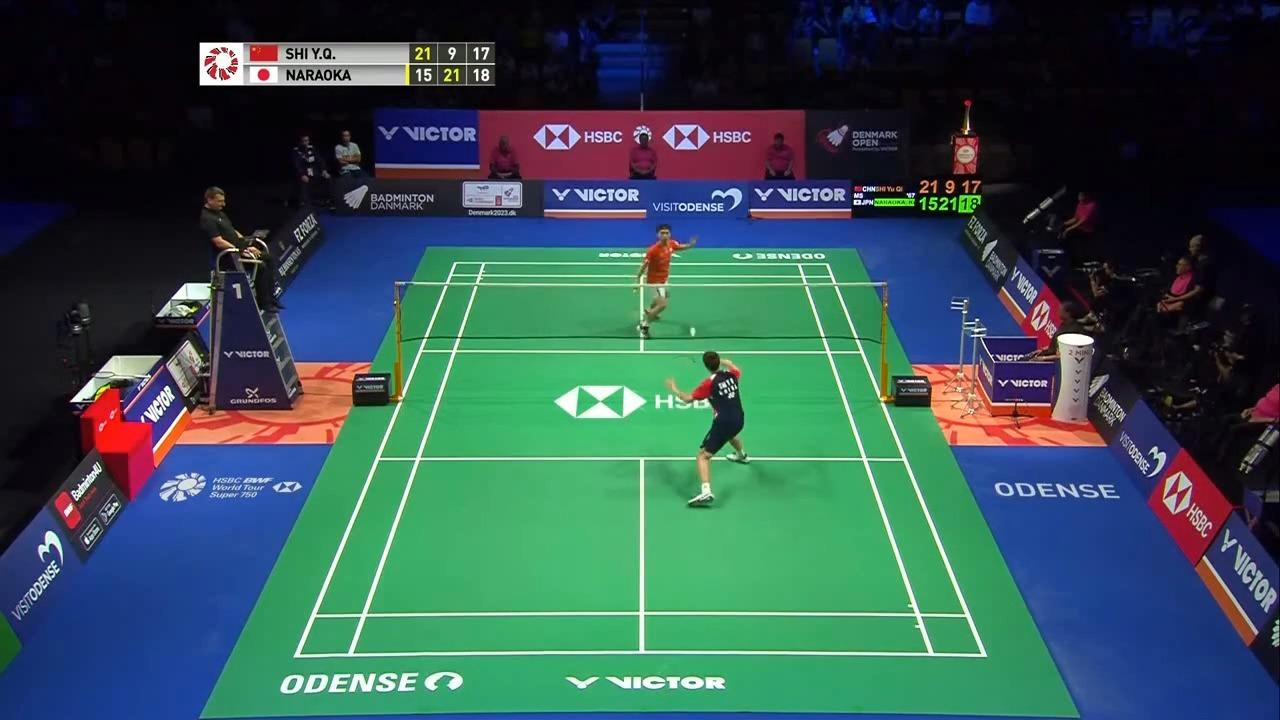shuttle: (687, 326, 698, 335)
